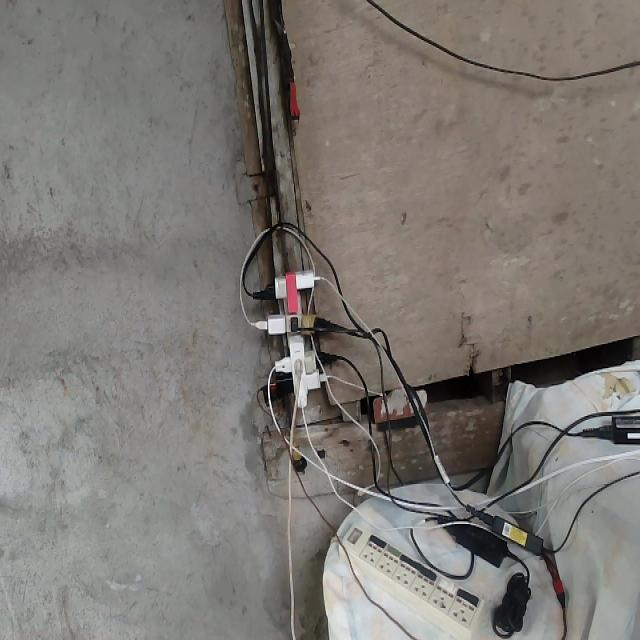-: (226, 195, 362, 448)
